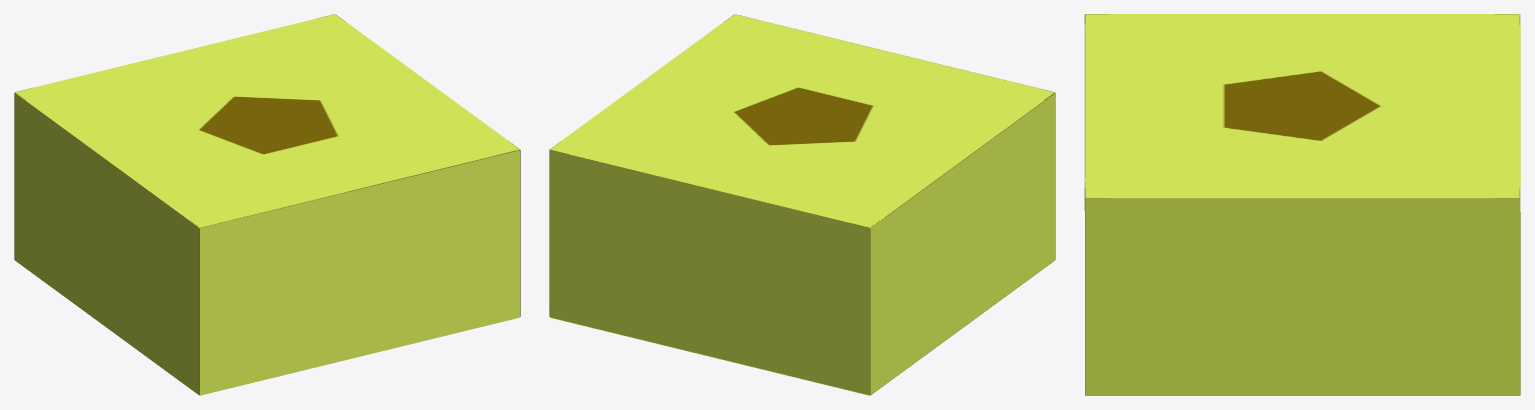
File: 400_FLoor_NoWalls_MES.FBX
3 renders of one model, left to right at view 1: azimuth 30°, elevation 25°; view 2: azimuth 150°, elevation 25°; view 3: azimuth 270°, elevation 25°, orthographic. The views are drawn at different scales.
Parts seen in each view (by area): view 1: 400FloorNoWall; view 2: 400FloorNoWall; view 3: 400FloorNoWall.
Part boxes in pixels (x1=…): 400FloorNoWall: x1=14, y1=14, x2=520, y2=395; 400FloorNoWall: x1=549, y1=14, x2=1055, y2=395; 400FloorNoWall: x1=1084, y1=14, x2=1520, y2=395.
Bounding box in the file's own units: 400 × 200 × 400.
